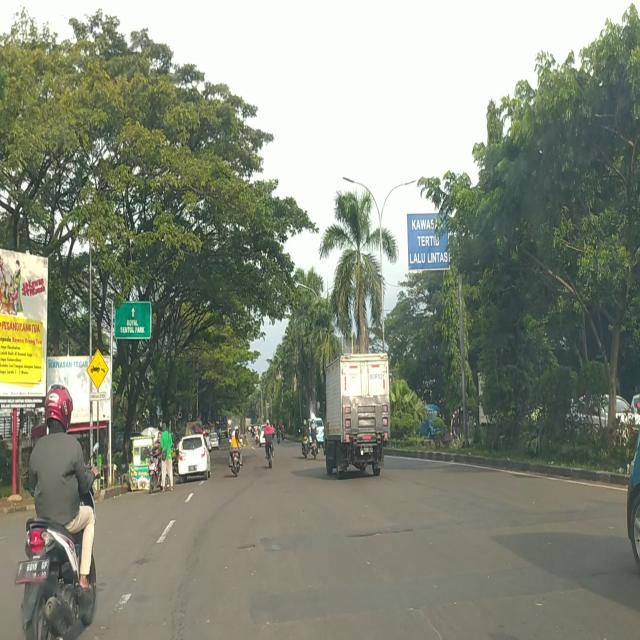Sewer Cover: (343, 526, 433, 542), (239, 539, 258, 551)
